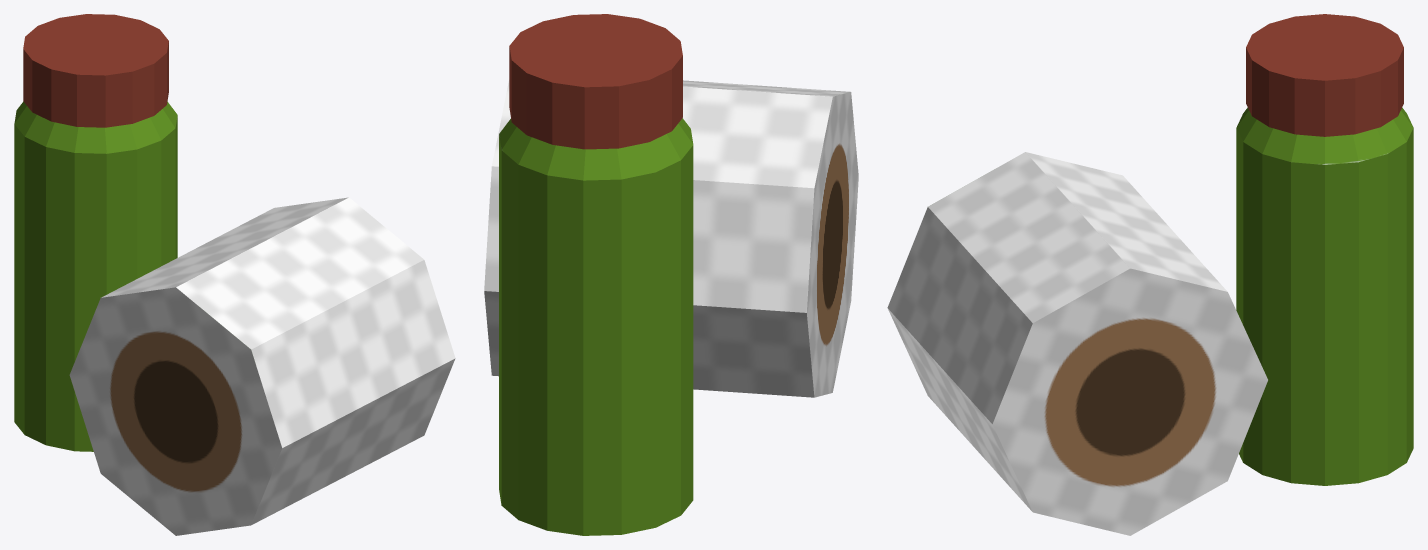
Rendered from mod_item_gauze.fbx.
3 views of the same model, side by side, from view 1: azimuth 30°, elevation 25°; view 2: azimuth 150°, elevation 25°; view 3: azimuth 270°, elevation 25° (orthographic). The views are drawn at different scales.
Visible parts, largest first — view 1: mesh_gauze; view 2: mesh_gauze; view 3: mesh_gauze.
Boxes of the visible parts, x1,y1,x2,y2 form: mesh_gauze: (14,14,455,535); mesh_gauze: (484,14,858,535); mesh_gauze: (887,14,1413,535).
Bounding box in the file's own units: 258 × 301 × 357.
